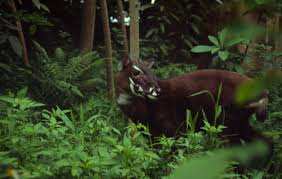sao_la: (115, 56, 269, 141)
